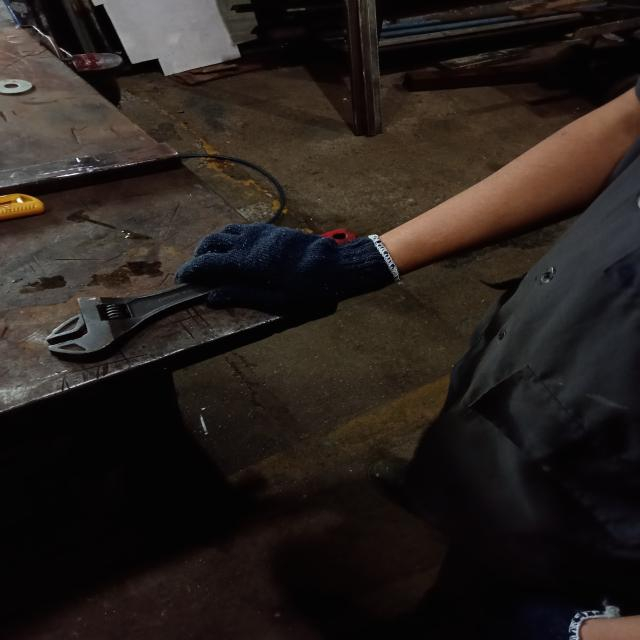Gloves-Detection: (195, 219, 393, 319)
